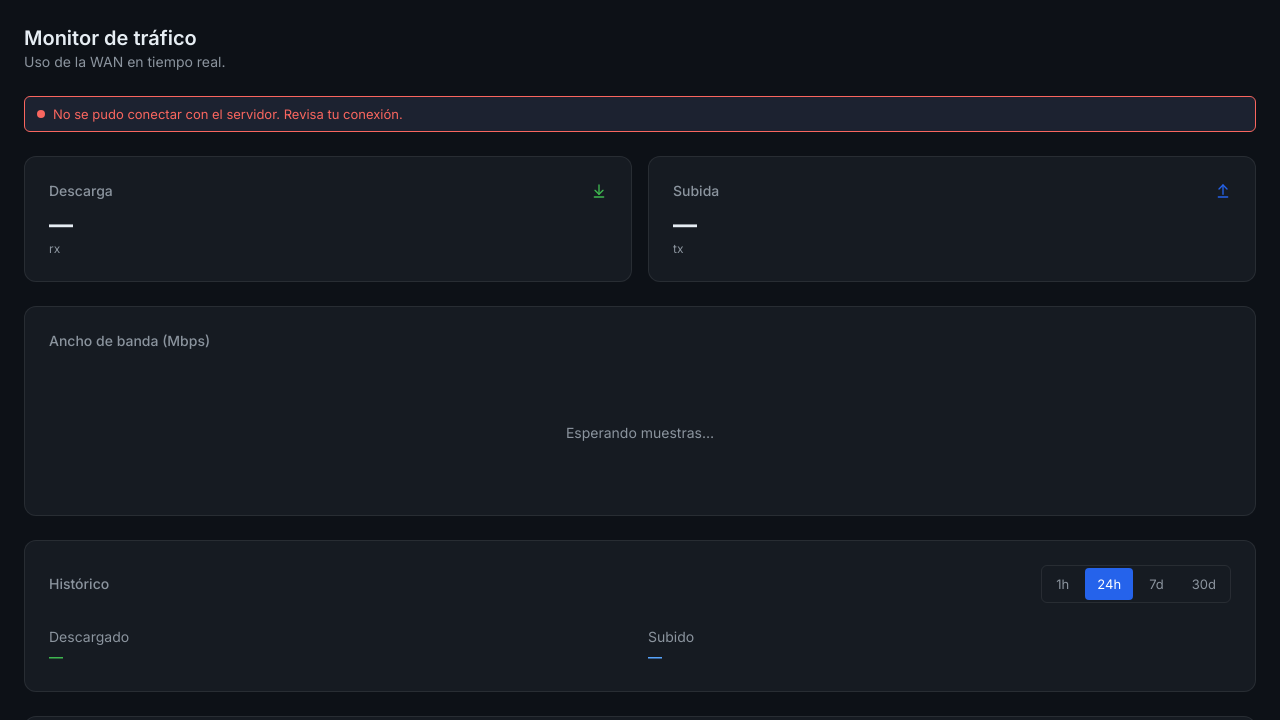
Test: TrafficPage › estados honestos › tras un fallo, un cambio de rango que carga bien limpia el banner
Expected: the message "No se pudo conectar con el servidor. Revisa tu conexión." is shown, 24,96 -> 1256,132
Click the button "7d": (1156, 584) 1137,568 -> 1176,600
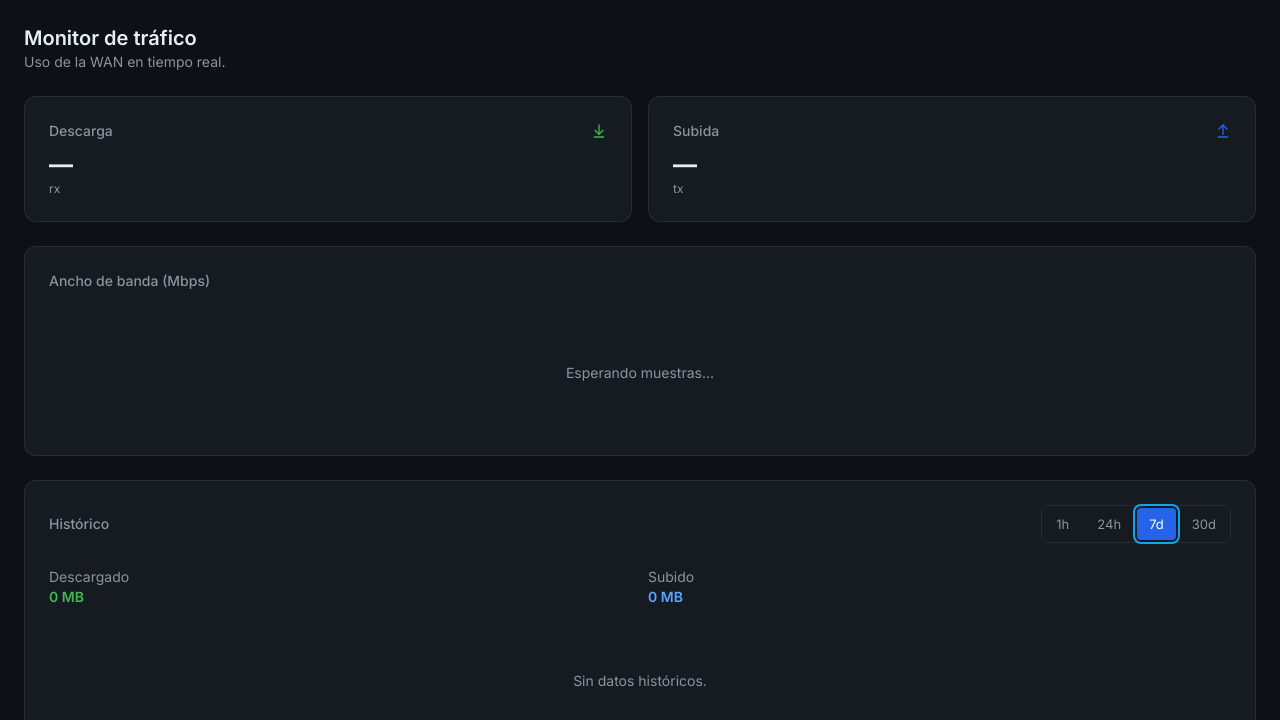
Result: the message "No se pudo conectar con el servidor. Revisa tu conexión." is gone
